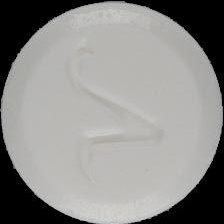49999-028: (0, 0, 224, 224)
